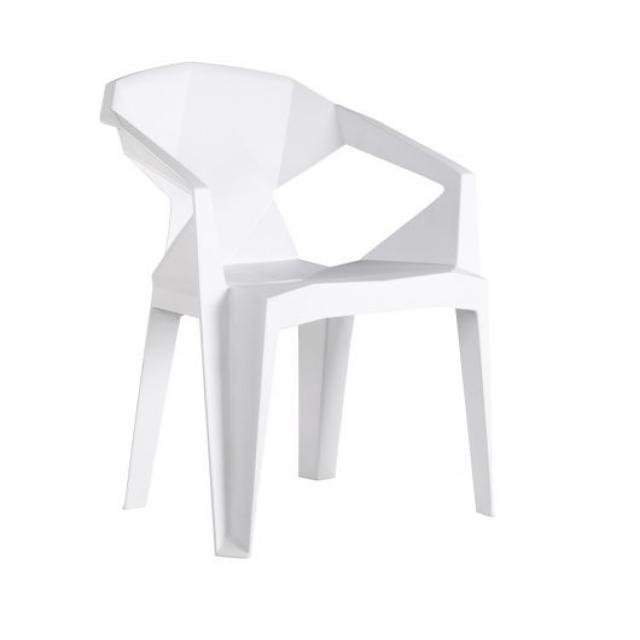chair: (100, 58, 507, 560)
